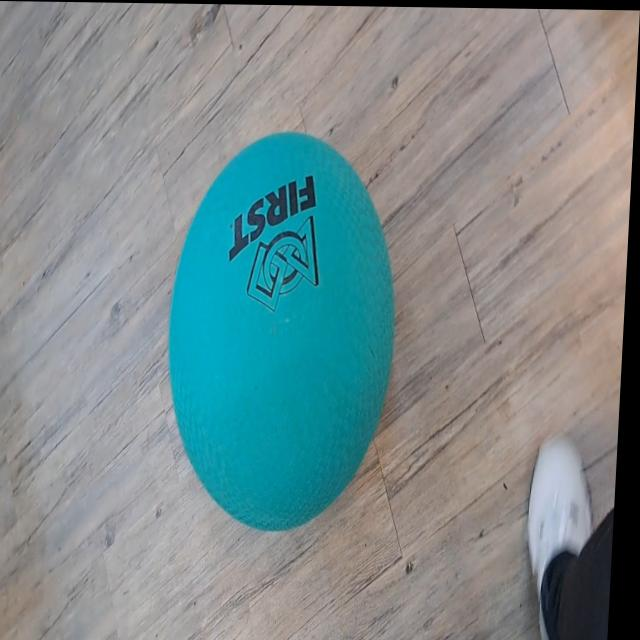ALGAE: (157, 127, 406, 535)
